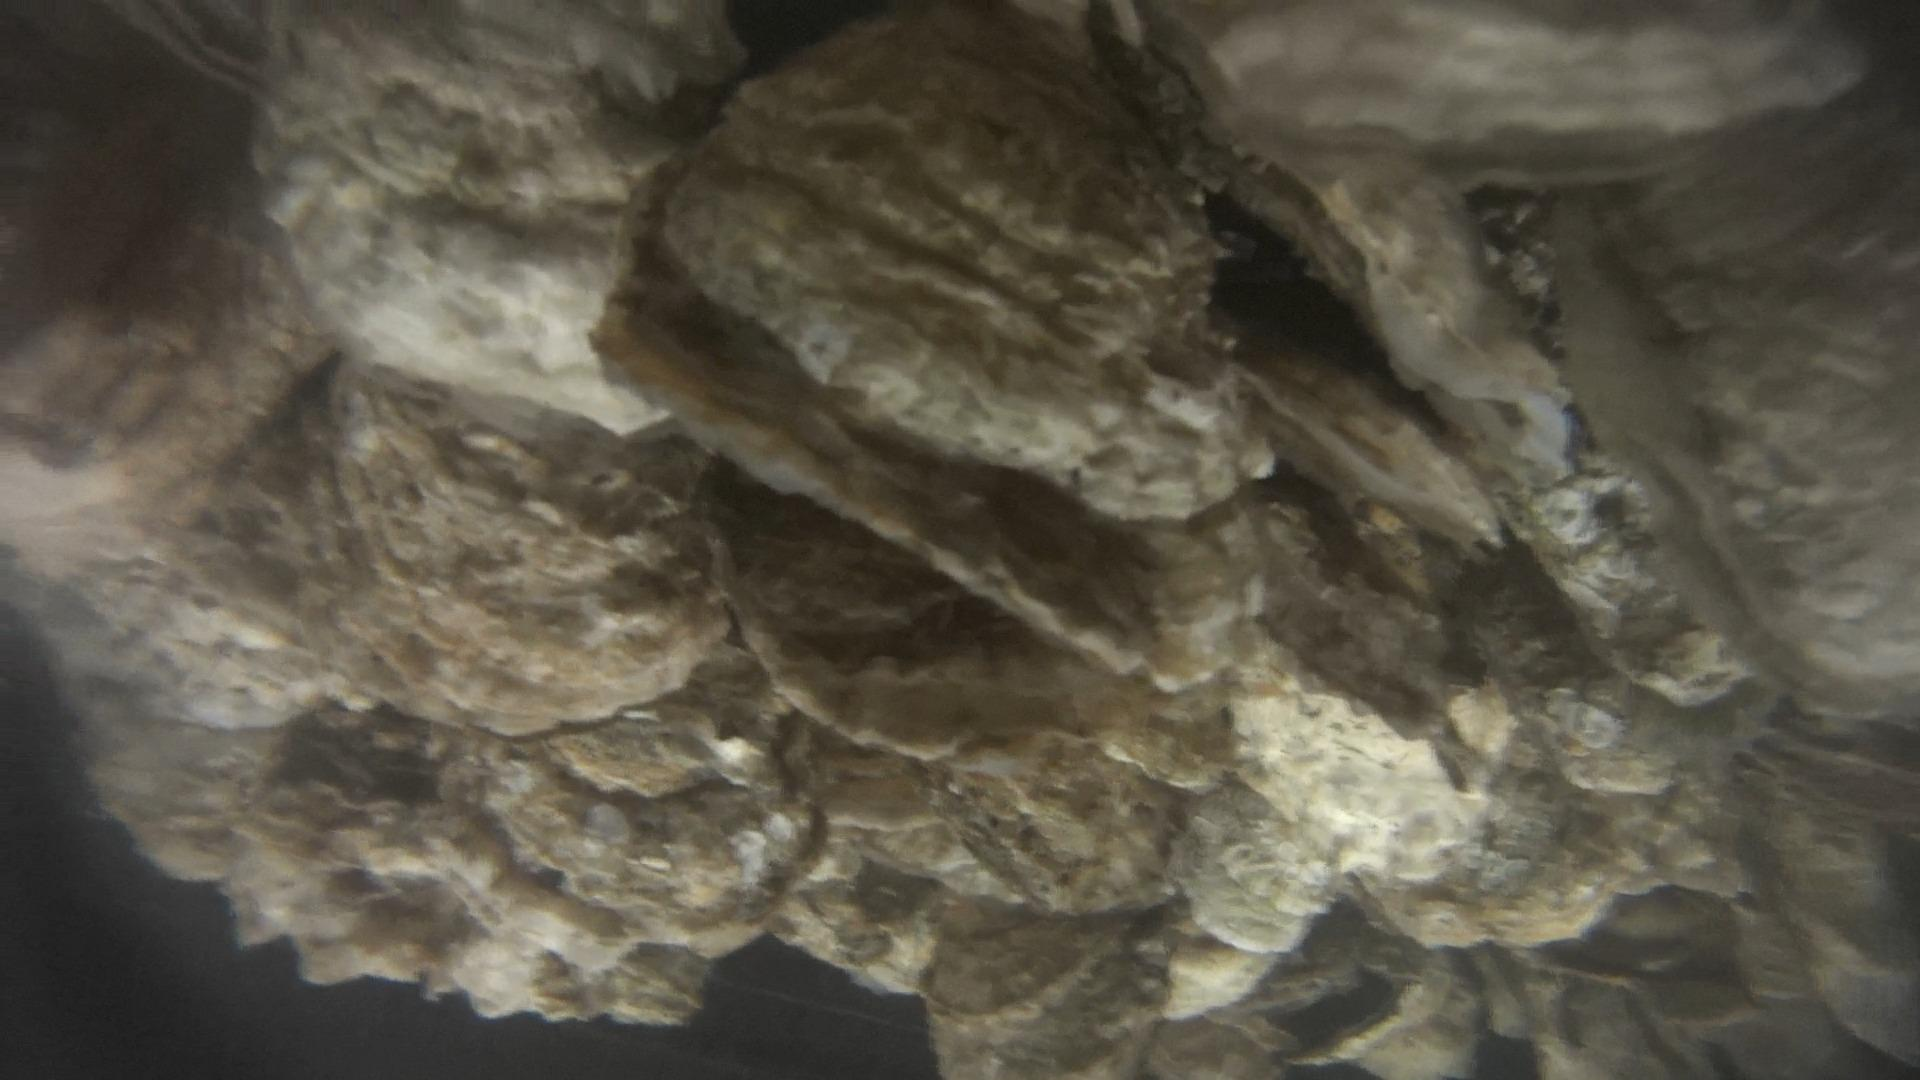3: (1156, 0, 1895, 189)
Oyster-Closed: (431, 736, 798, 914), (920, 899, 1189, 1080), (1250, 352, 1495, 531), (769, 822, 1023, 989), (549, 720, 779, 796)
Oyster-Open: (589, 153, 1275, 694), (1619, 80, 1920, 663), (1091, 32, 1524, 411), (319, 375, 733, 733), (0, 214, 338, 637), (102, 0, 744, 207), (702, 473, 1104, 744), (251, 109, 618, 400), (1378, 692, 1734, 945), (218, 849, 707, 1025), (787, 721, 1187, 913), (1482, 398, 1693, 647), (44, 620, 237, 880)
